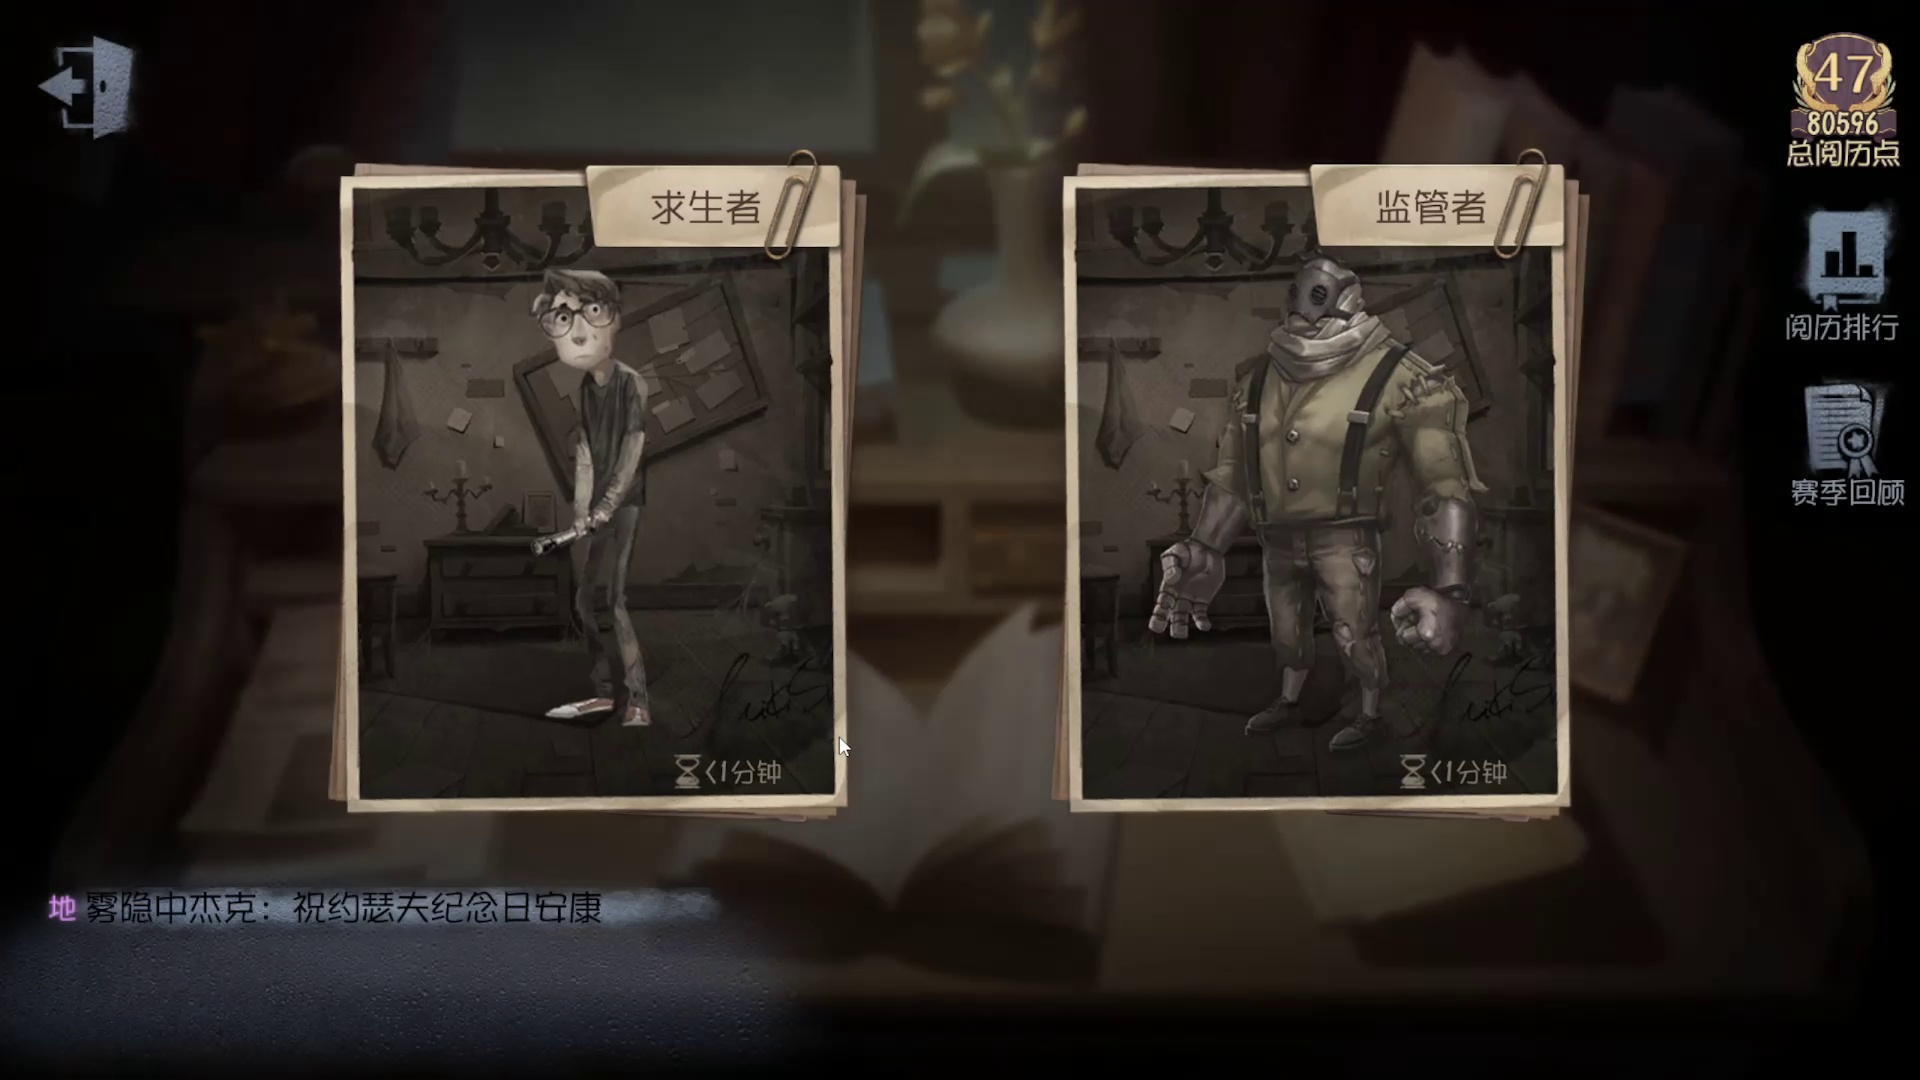监管者: (1050, 136, 1582, 843)
